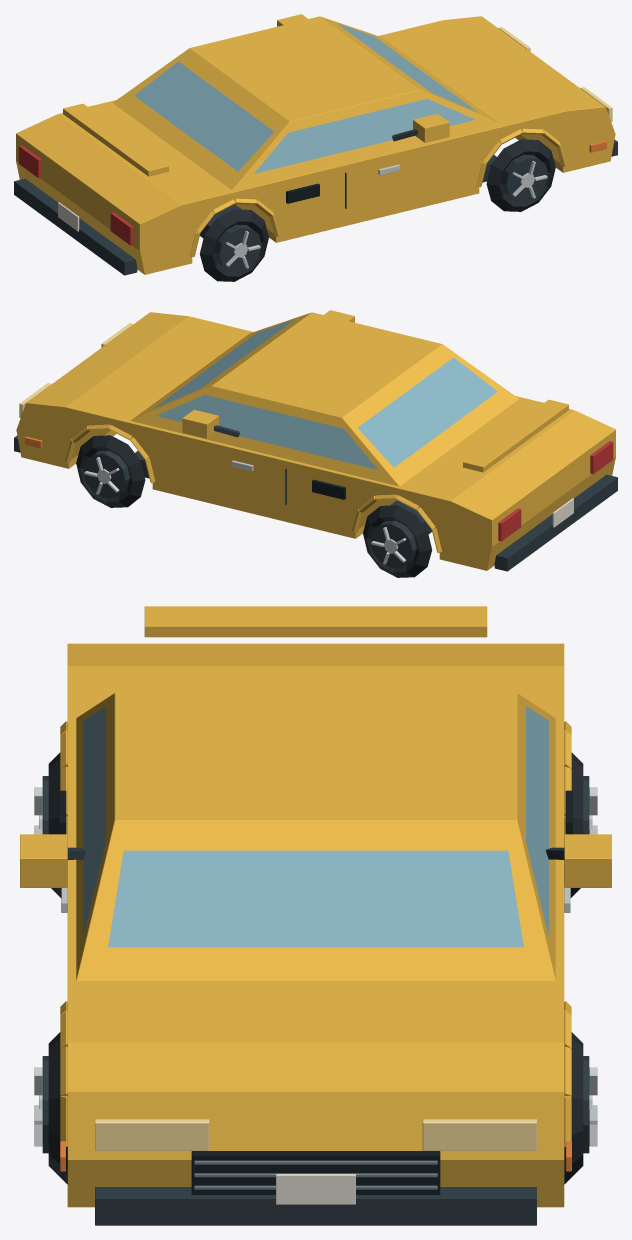
The model's file is b03_midengine_sports_coupe.glb.
3 views of the same model, one above another, from view 1: azimuth 30°, elevation 25°; view 2: azimuth 150°, elevation 25°; view 3: azimuth 270°, elevation 25° (orthographic). The views are drawn at different scales.
Visible parts, largest first — view 1: b03_midengine_sports_coupe; view 2: b03_midengine_sports_coupe; view 3: b03_midengine_sports_coupe.
Boxes of the visible parts, left/top/right/bottom form: b03_midengine_sports_coupe: left=14, top=14, right=617, bottom=281; b03_midengine_sports_coupe: left=14, top=310, right=617, bottom=577; b03_midengine_sports_coupe: left=20, top=606, right=611, bottom=1225.
Bounding box in the file's own units: 4.57 × 1.19 × 2.36.
